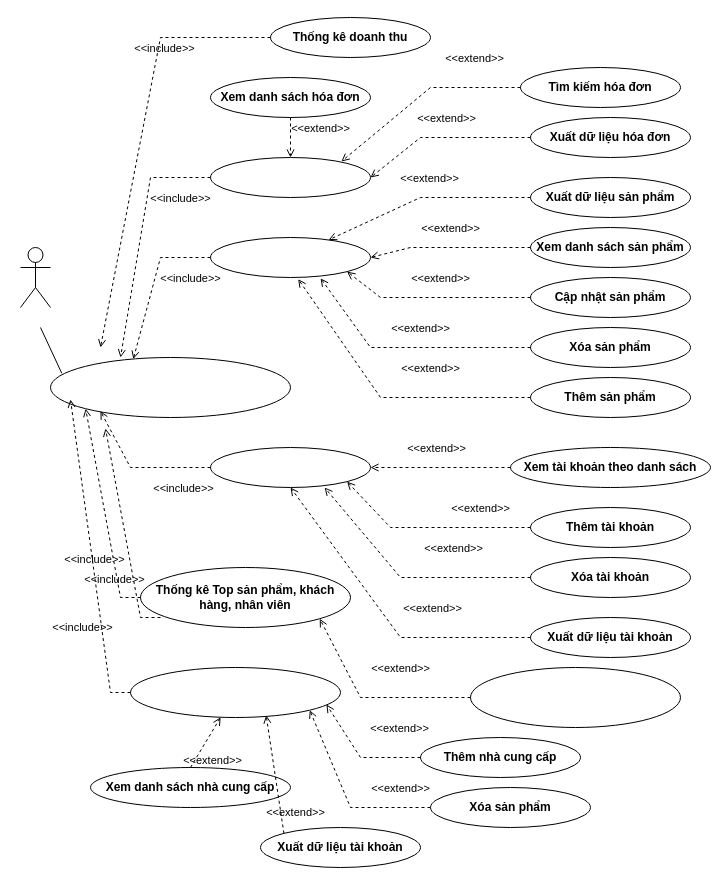
The diagram is 728 pixels wide and 885 high, and some of its shapes have lost their labels. The centre of each missing label's shape, as x and y in pixels:
"Admin" belongs at [35,277].
"Quản lý hóa đơn" belongs at [290,177].
"Quản lý nhà cung cấp" belongs at [235,692].
"Quản lý sản phẩm" belongs at [290,257].
"Quản lý tài khoản" belongs at [290,467].
"Xuất dữ liệu Top sản phẩm, khách hàng, nhân viên" belongs at [575,697].
"Đăng nhập dưới quyền Admin" belongs at [170,387].
